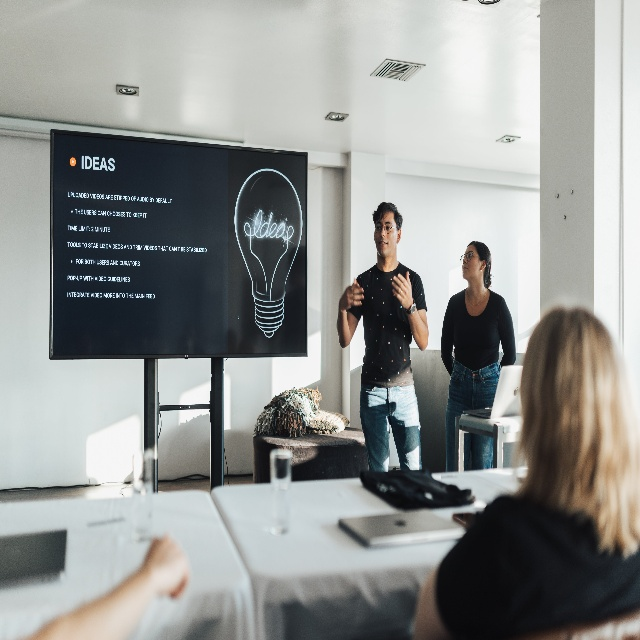Gafas: (460, 251, 483, 265), (374, 221, 398, 234)
Sin_guantes: (144, 537, 189, 601), (391, 271, 413, 310), (339, 278, 365, 311)
